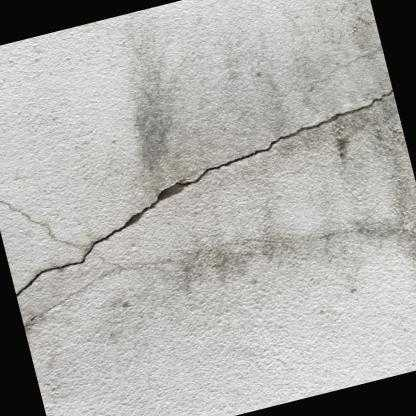crack: (15, 88, 392, 298)
